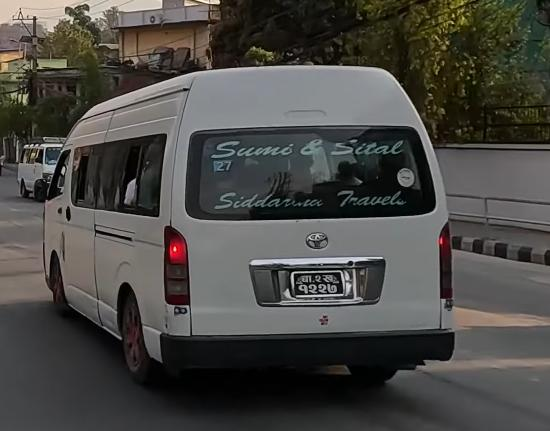micro_bus: (33, 58, 464, 399)
